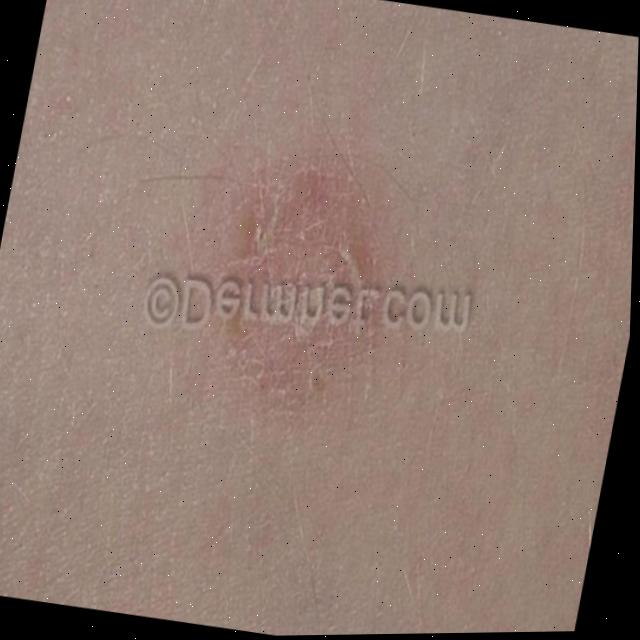Eczema: (186, 162, 410, 424)
